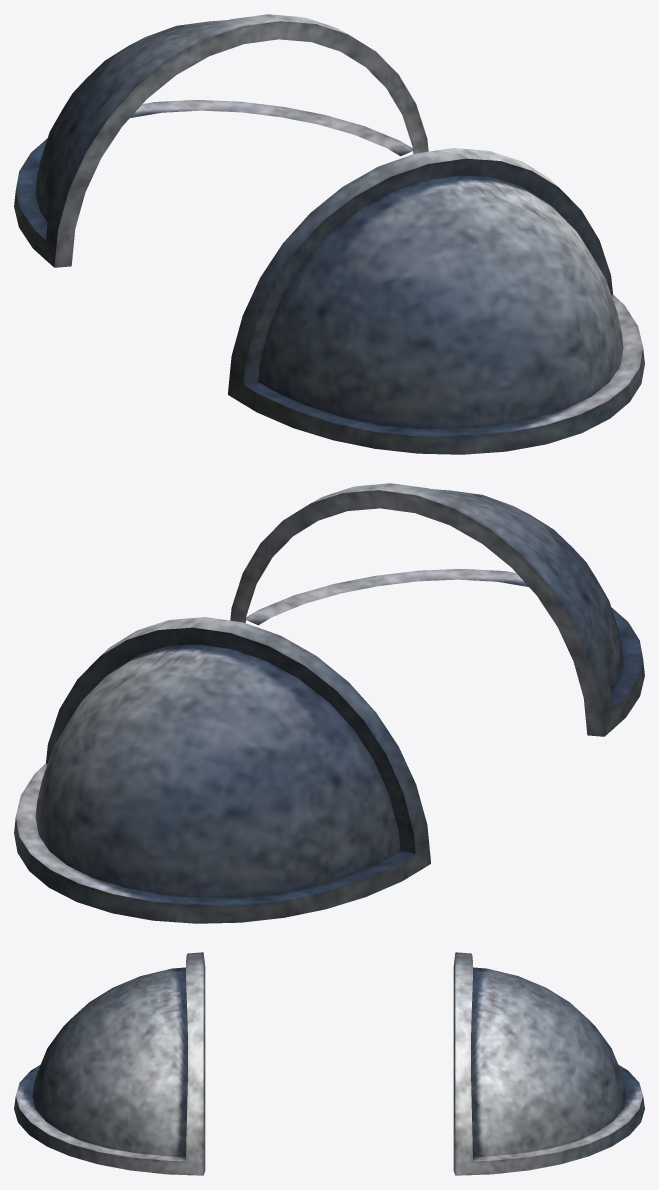
Rendered from outfit_shoulder_pads.glb.
3 renders of one model, top to bottom at view 1: azimuth 30°, elevation 25°; view 2: azimuth 150°, elevation 25°; view 3: azimuth 270°, elevation 25°, orthographic. The views are drawn at different scales.
Visible parts, largest first — view 1: outfit_shoulder_pads; view 2: outfit_shoulder_pads; view 3: outfit_shoulder_pads.
Boxes of the visible parts, <box> form: outfit_shoulder_pads: <box>14,14,644,454</box>; outfit_shoulder_pads: <box>14,483,644,923</box>; outfit_shoulder_pads: <box>14,952,644,1175</box>.
Size of the model in its own units: 0.5997 by 0.3 by 1.2.
Materials: 1 (1 with a texture image).
